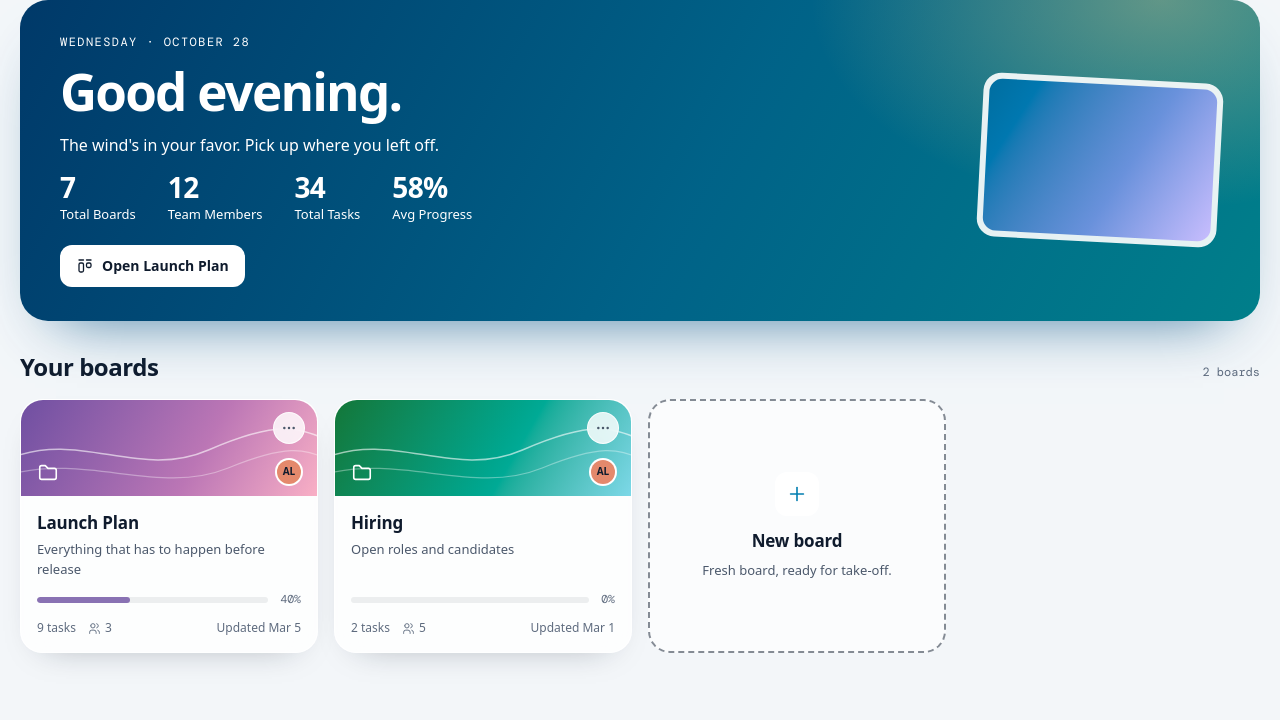
Test case: BoardDashboard per board menu › closes on Escape
The image size is (1280, 720).
Check: the link "Launch Plan" is shown, box [37,511,139,534]
Click the button named "Options for Launch Plan": (289, 428) [273,412,305,444]
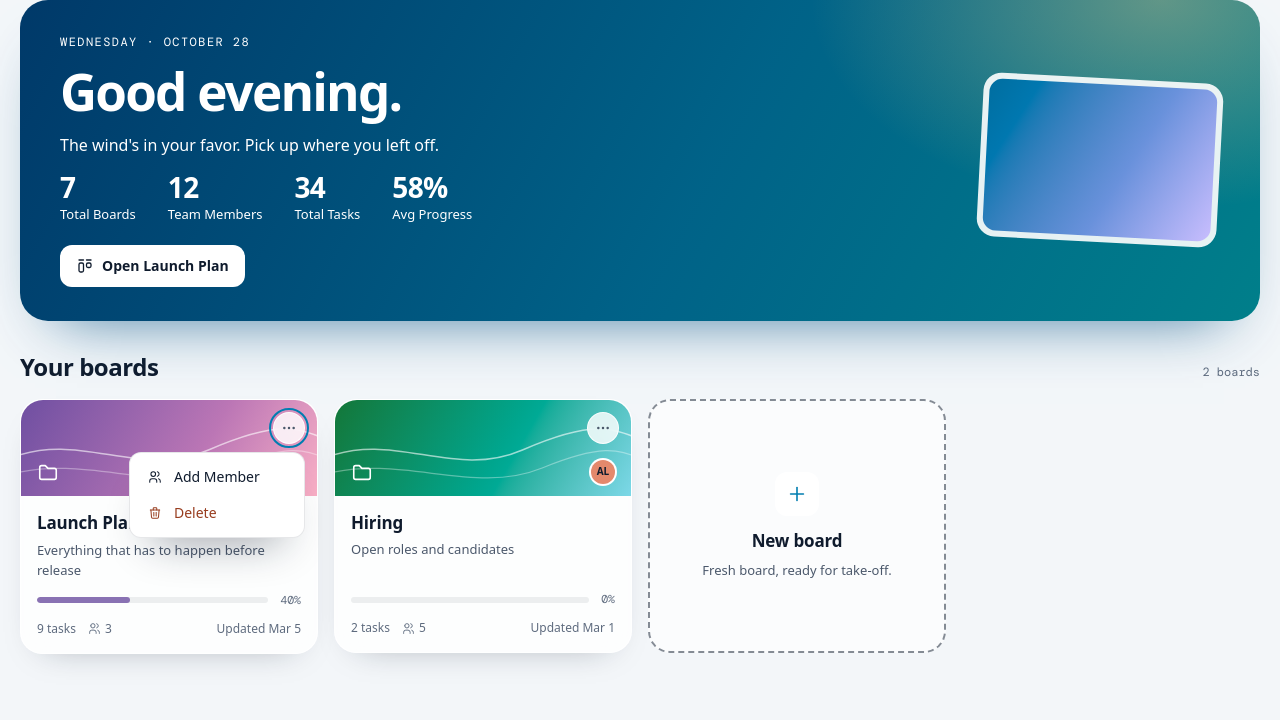
Press Escape
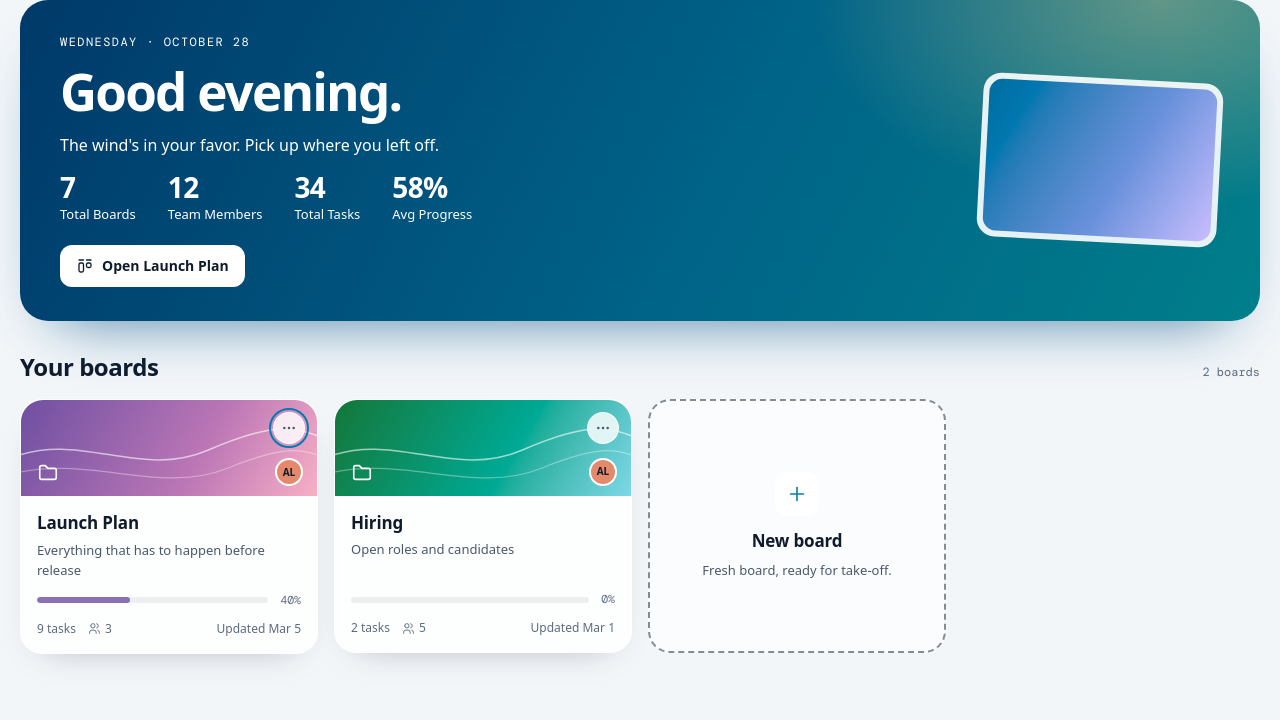
Check: the button "Add Member" is gone
